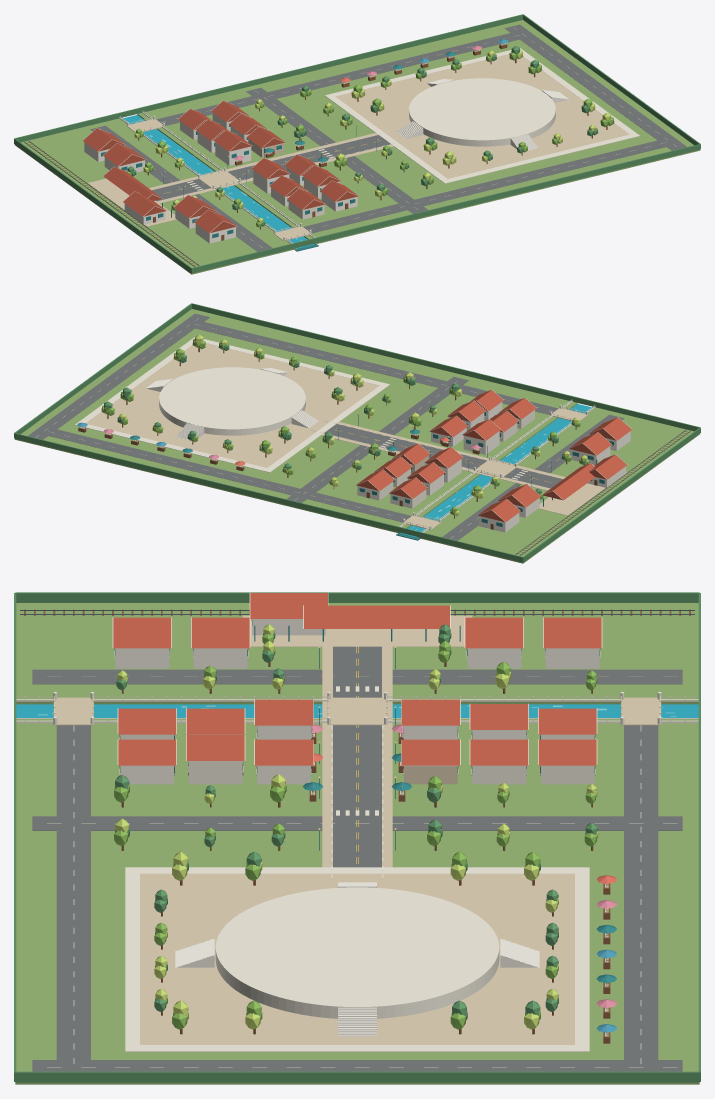
Rendered from HNP_Town_v009.fbx.
3 views of the same model, one above another, from view 1: azimuth 30°, elevation 25°; view 2: azimuth 150°, elevation 25°; view 3: azimuth 270°, elevation 25° (orthographic). The views are drawn at different scales.
Parts seen in each view (by area): view 1: COLL_Town, Town_HNPW_Asphalt, Town_HNPW_Path, Town_HNPW_Ivory, Town_HNPW_Roof, Town_HNPW_LeafDark, Town_HNPW_Water, Town_HNPW_Leaf, Town_HNPW_Plaster, Town_HNPW_LeafLight, Town_HNPW_White, Town_HNPW_Teal (+2 smaller); view 2: COLL_Town, Town_HNPW_Asphalt, Town_HNPW_Path, Town_HNPW_Ivory, Town_HNPW_Roof, Town_HNPW_LeafDark, Town_HNPW_Water, Town_HNPW_Leaf, Town_HNPW_LeafLight, Town_HNPW_White, Town_HNPW_Plaster, Town_HNPW_Teal (+2 smaller); view 3: COLL_Town, Town_HNPW_Asphalt, Town_HNPW_Path, Town_HNPW_Ivory, Town_HNPW_Roof, Town_HNPW_LeafDark, Town_HNPW_Plaster, Town_HNPW_Leaf, Town_HNPW_LeafLight, Town_HNPW_White, Town_HNPW_Water, Town_HNPW_Teal (+2 smaller).
Part boxes in pixels (x1,y1,x2,y2): COLL_Town: (14,14,700,274); Town_HNPW_Asphalt: (90,24,686,251); Town_HNPW_Path: (88,54,629,226); Town_HNPW_Ivory: (83,39,639,248); Town_HNPW_Roof: (83,101,358,232); Town_HNPW_LeafDark: (14,14,700,272); Town_HNPW_Water: (122,115,316,248); Town_HNPW_Leaf: (126,43,614,227); Town_HNPW_Plaster: (84,80,567,242); Town_HNPW_LeafLight: (134,50,611,223); Town_HNPW_White: (99,28,676,247); Town_HNPW_Teal: (101,52,455,251); COLL_Town: (14,303,700,563); Town_HNPW_Asphalt: (28,313,624,540); Town_HNPW_Path: (86,343,626,515); Town_HNPW_Ivory: (75,337,631,532); Town_HNPW_Roof: (356,390,631,521); Town_HNPW_LeafDark: (14,303,700,561); Town_HNPW_Water: (398,404,592,537); Town_HNPW_Leaf: (80,339,589,515); Town_HNPW_LeafLight: (101,334,587,516); Town_HNPW_White: (36,318,614,538); Town_HNPW_Plaster: (147,369,588,532); Town_HNPW_Teal: (130,412,613,540); COLL_Town: (14,592,700,1084); Town_HNPW_Asphalt: (32,646,682,1071); Town_HNPW_Path: (140,615,574,1044); Town_HNPW_Ivory: (16,593,698,1051); Town_HNPW_Roof: (113,593,601,765); Town_HNPW_LeafDark: (14,592,700,1082); Town_HNPW_Plaster: (115,619,599,1035); Town_HNPW_Leaf: (114,634,608,1035); Town_HNPW_LeafLight: (114,624,598,1029); Town_HNPW_White: (16,621,698,1067); Town_HNPW_Water: (16,704,698,717); Town_HNPW_Teal: (115,620,616,983).
Bounding box in the file's own units: 23250 × 1161 × 14050.
